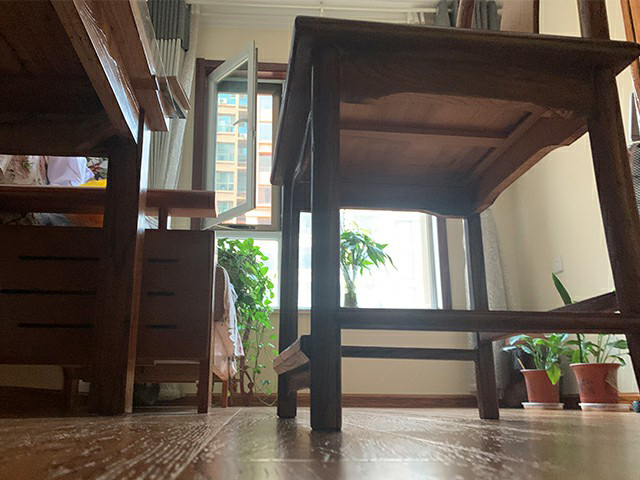sofa: (2, 151, 243, 415)
stool: (265, 1, 640, 432)
table: (1, 1, 170, 417)
